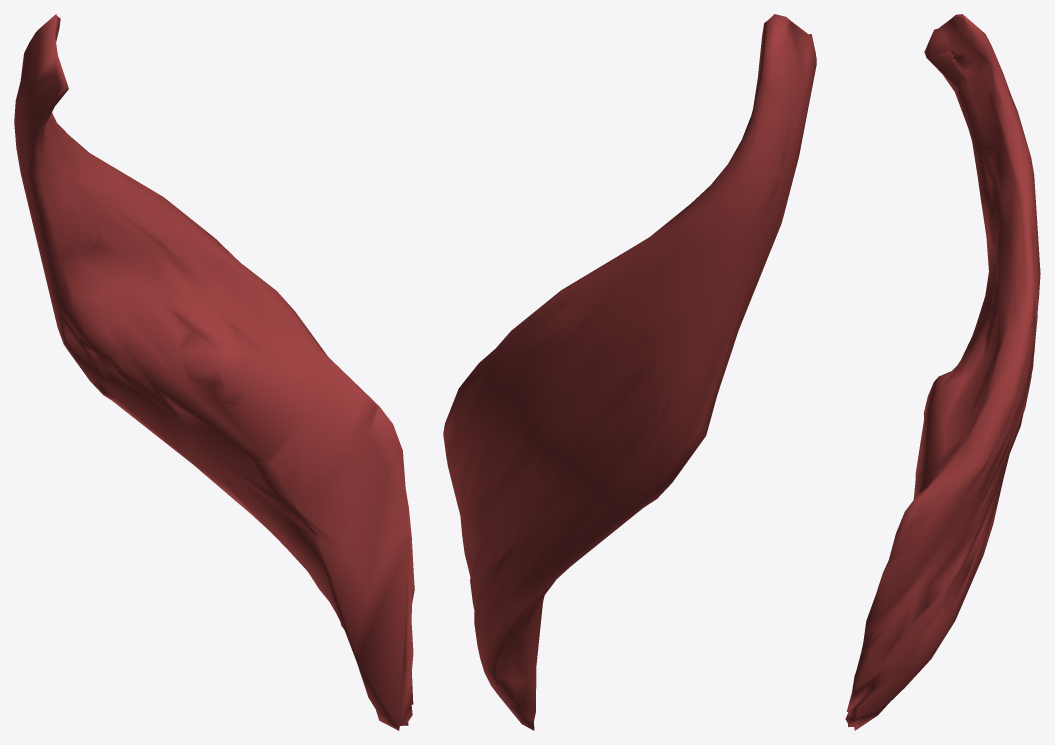
The model's file is popliteus-muscle-r.glb.
3 views of the same model, side by side, from view 1: azimuth 30°, elevation 25°; view 2: azimuth 150°, elevation 25°; view 3: azimuth 270°, elevation 25° (orthographic). The views are drawn at different scales.
Parts seen in each view (by area): view 1: Popliteus muscle.r; view 2: Popliteus muscle.r; view 3: Popliteus muscle.r.
Part boxes in pixels (x1,y1,x2,y2): Popliteus muscle.r: (14, 14, 414, 730); Popliteus muscle.r: (443, 14, 816, 730); Popliteus muscle.r: (845, 14, 1040, 730).
Size of the model in its own units: 0.0592 by 0.1251 by 0.0365.
